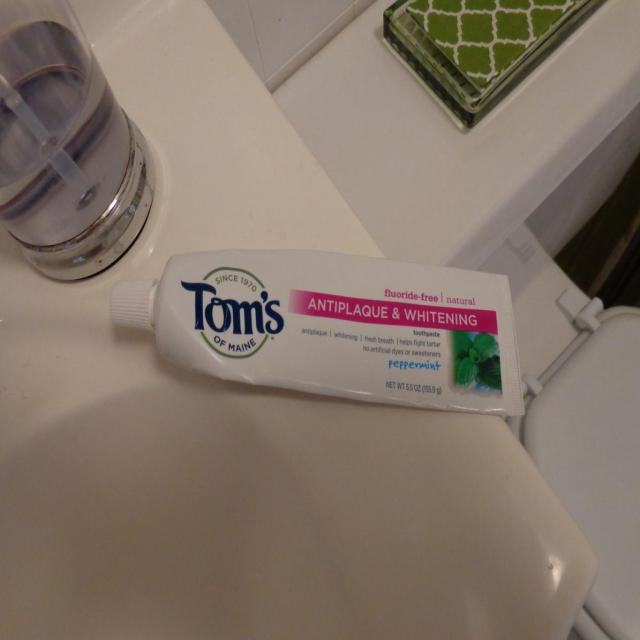Toothpaste: (101, 247, 535, 425)
